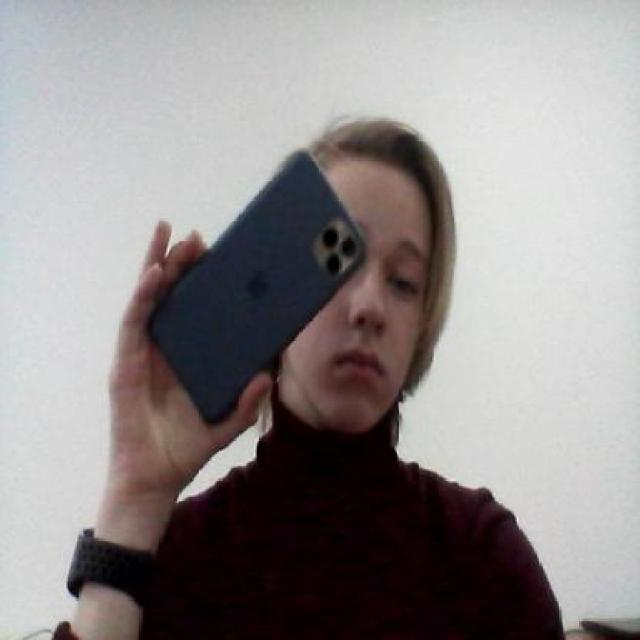mobile: (134, 132, 375, 436)
